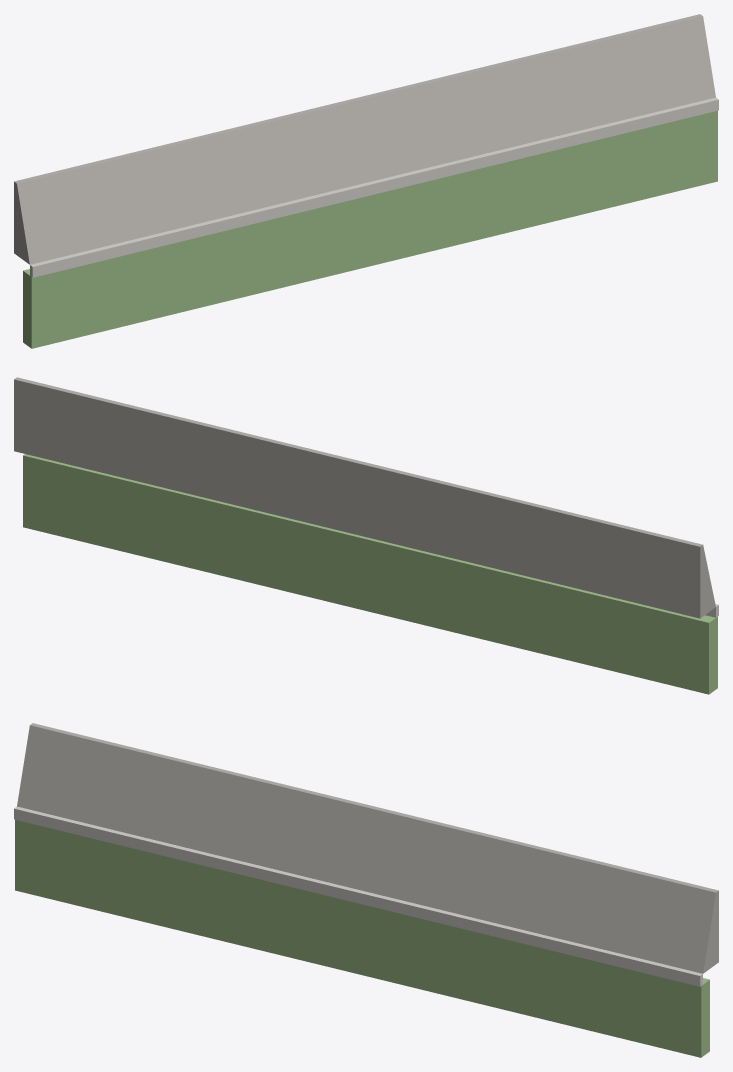
Rendered from r-149-canal-riprap-revetment.glb.
3 renders of one model, top to bottom at view 1: azimuth 30°, elevation 25°; view 2: azimuth 150°, elevation 25°; view 3: azimuth 330°, elevation 25°, orthographic.
Visible parts, largest first — view 1: riprap, verge, coping; view 2: riprap, verge; view 3: riprap, verge, coping.
Boxes of the visible parts, x1=… form: riprap: x1=14, y1=14, x2=715, y2=264; verge: x1=23, y1=110, x2=717, y2=348; coping: x1=30, y1=97, x2=718, y2=277; riprap: x1=14, y1=377, x2=715, y2=618; verge: x1=23, y1=454, x2=717, y2=694; riprap: x1=17, y1=723, x2=718, y2=973; verge: x1=15, y1=819, x2=709, y2=1057; coping: x1=14, y1=806, x2=702, y2=986.
Bounding box in the file's own units: 40000 × 8599 × 1900.
